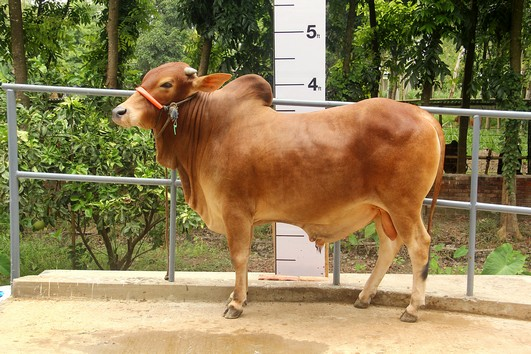cow: (108, 57, 450, 328)
